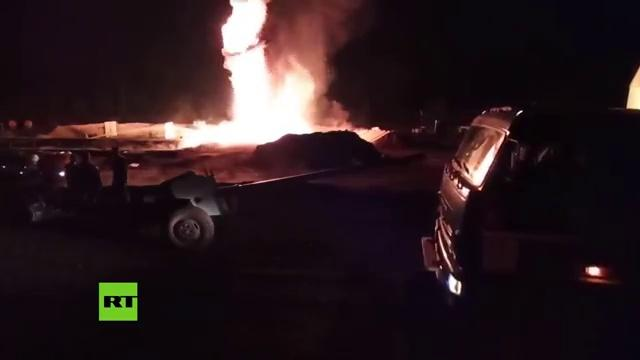fire: (232, 56, 295, 128)
